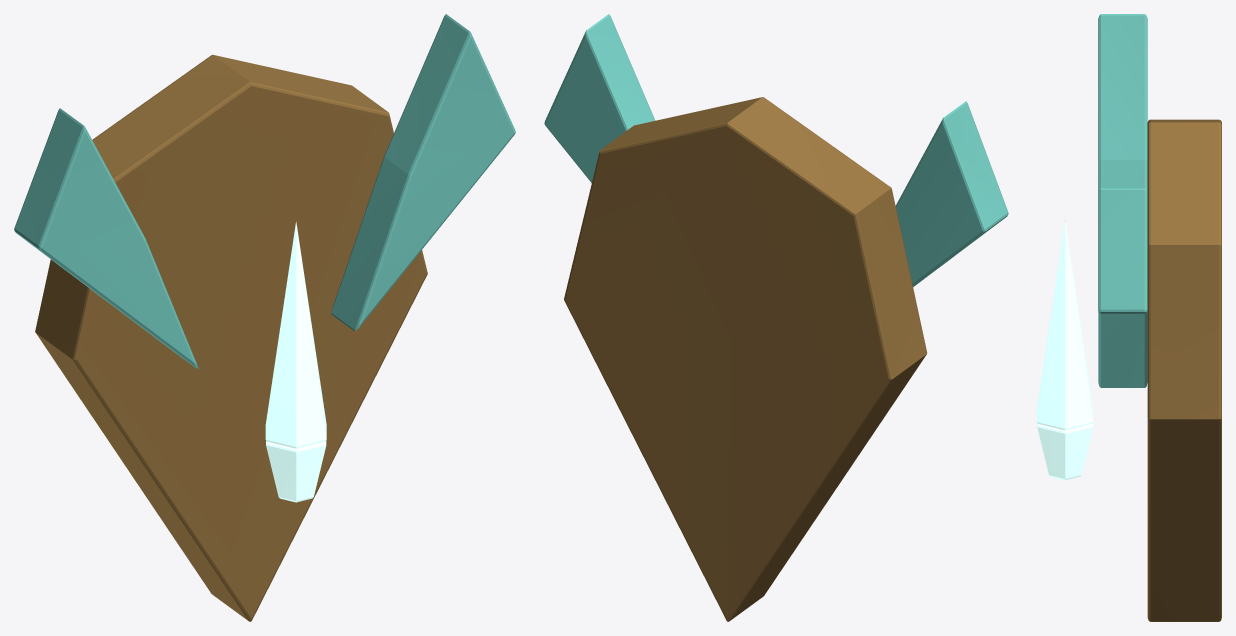
Rendered from item_059.glb.
3 views of the same model, side by side, from view 1: azimuth 30°, elevation 25°; view 2: azimuth 150°, elevation 25°; view 3: azimuth 270°, elevation 25° (orthographic). The views are drawn at different scales.
Parts seen in each view (by area): view 1: Item_059_scorpion_kite; view 2: Item_059_scorpion_kite; view 3: Item_059_scorpion_kite.
Boxes of the visible parts, x1,y1,x2,y2 form: Item_059_scorpion_kite: (14,14,515,621); Item_059_scorpion_kite: (544,14,1008,621); Item_059_scorpion_kite: (1037,14,1221,621).
Bounding box in the file's own units: 0.6178 × 0.697 × 0.2242.
